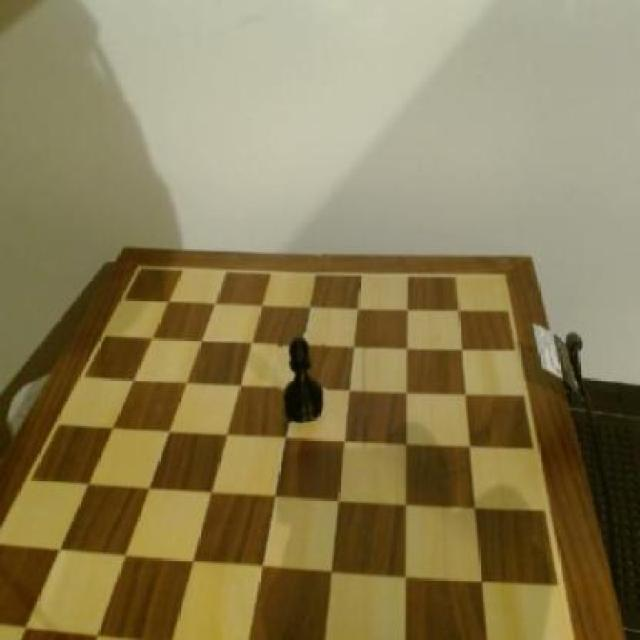black-knight: (278, 332, 327, 423)
